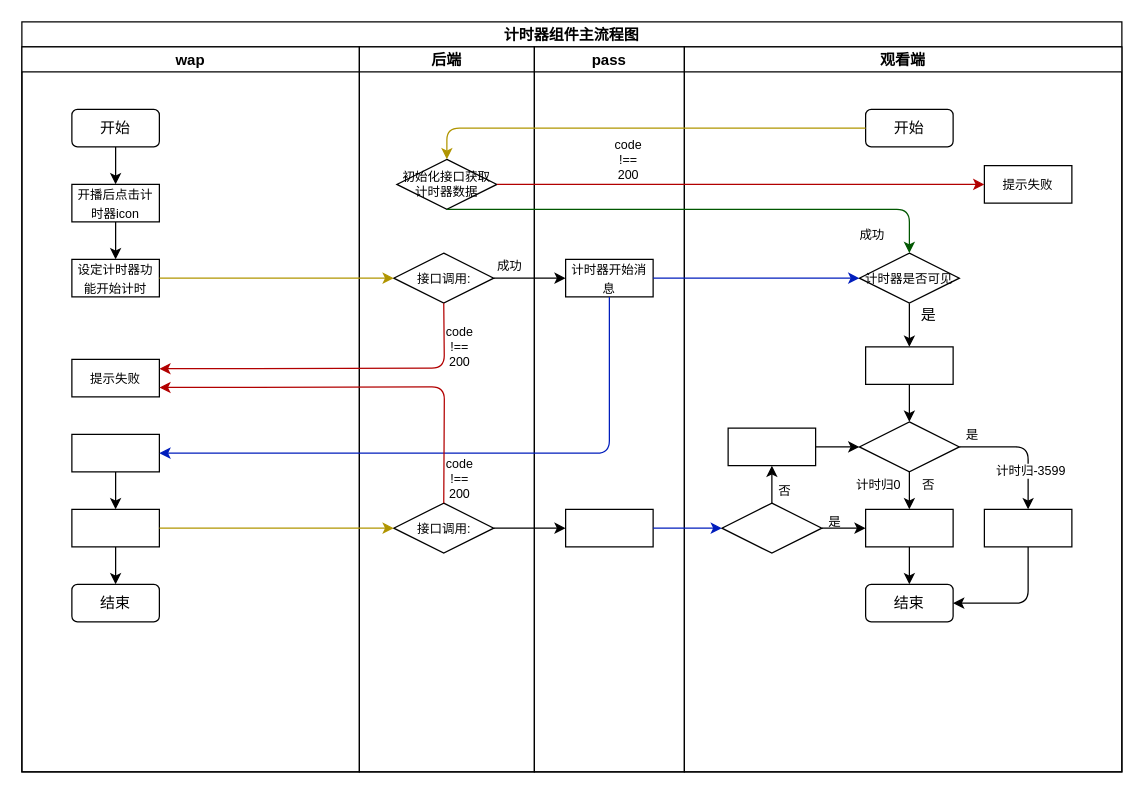
Some shapes in this 1144 by 794 pixel diagram are drawn without their labels. Each missing label, with the centre of its shape:
"关闭倒计时面板和icon" goes at (x=908, y=527).
"对应消息" goes at (x=608, y=527).
"打开倒计时面板" goes at (x=115, y=452).
"打开倒计时面板和iocn" goes at (x=908, y=365).
"是否为重置 /关闭" goes at (x=771, y=527).
"是否可超时" goes at (x=908, y=446).
"暂停/继续/重置/关闭" goes at (x=115, y=527).
"暂停/继续倒计时" goes at (x=771, y=446).
"清除计时,保持面板" goes at (x=1027, y=527).
